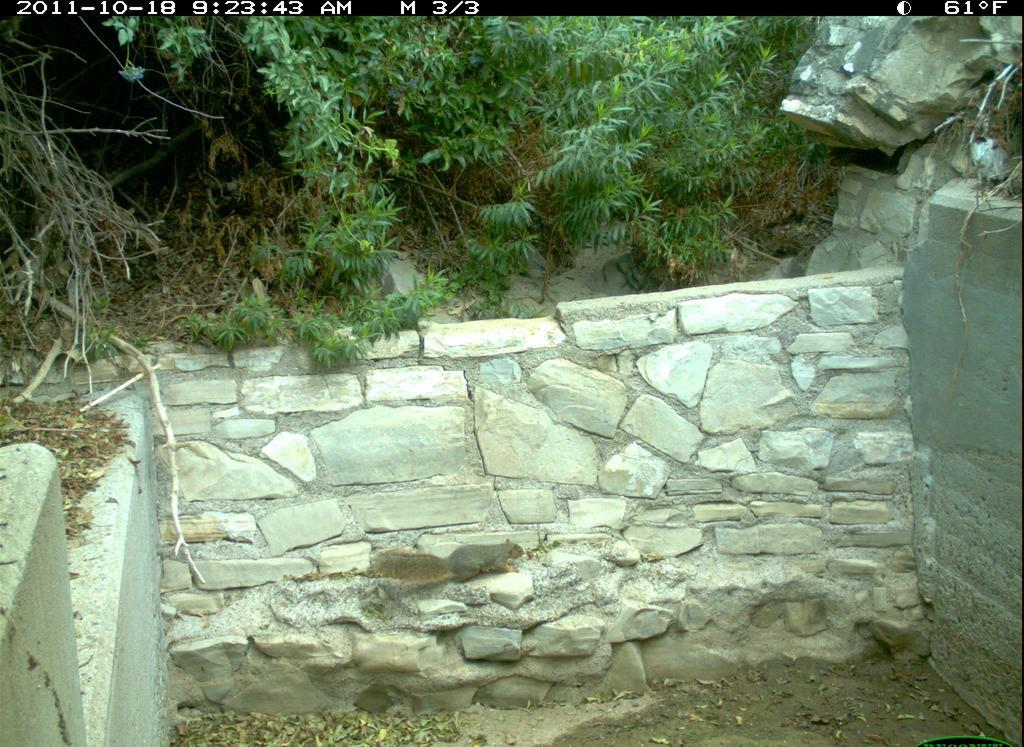squirrel: (364, 534, 528, 594)
